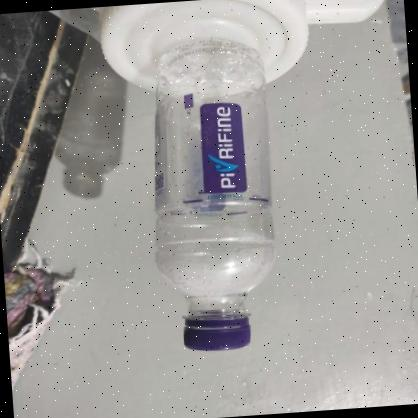bottle: (140, 38, 286, 357)
cap: (182, 311, 252, 355)
label: (145, 44, 274, 216)
